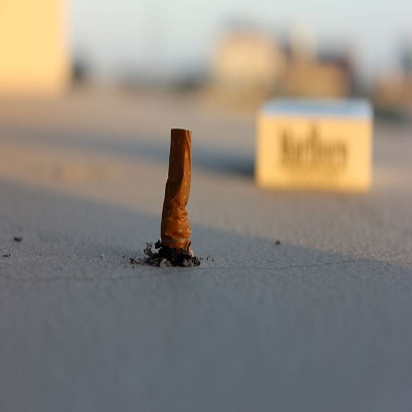cigarette: (148, 118, 203, 278)
